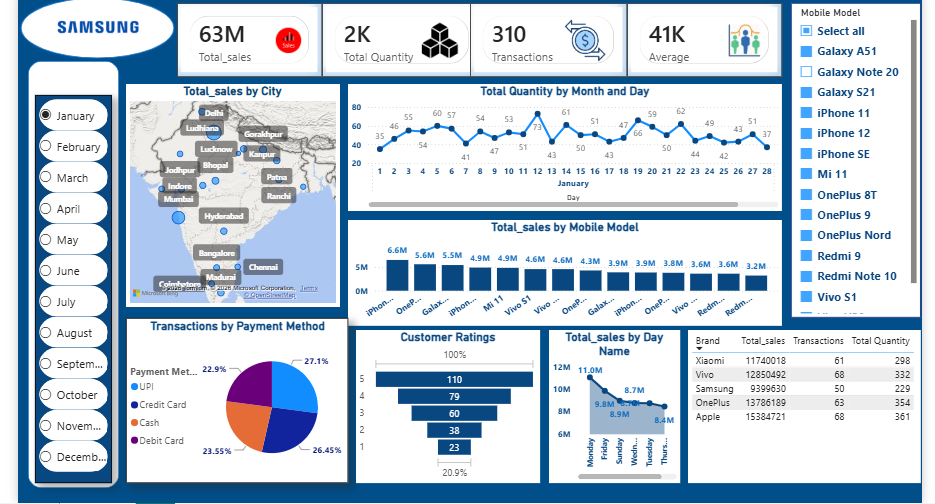

What the dashboard file says about the page in this screenshot:
{"tool":"powerbi","page":{"name":"Page 1","canvas":[1280,720],"ordinal":0},"visuals":[{"type":"shape","box":[0,0,225.4,93.5],"z":0},{"type":"image","box":[52.4,11.3,121.9,69.4],"z":1000},{"type":"shape","box":[14.2,93.5,129,605.2],"z":2000},{"type":"listSlicer","fields":{"Values":["Sales_Data.Date.Variation.Date Hierarchy.Month"]},"box":[24.1,141.7,109.1,549.9],"z":3000},{"type":"cardVisual","fields":{"Data":["Sales_Data.Total_sales"]},"box":[225.4,11.3,205.5,104.9],"z":4000},{"type":"cardVisual","fields":{"Data":["Sales_Data.Total Quantity"]},"box":[430.9,11.3,226.8,104.9],"z":5000},{"type":"cardVisual","fields":{"Data":["Sales_Data.Transactions"]},"box":[640.6,11.3,222.5,104.9],"z":6000},{"type":"cardVisual","fields":{"Data":["Sales_Data.Average"]},"box":[863.1,11.3,219.7,104.9],"z":7000},{"type":"map","fields":{"Category":["Sales_Data.City"],"Size":["Sales_Data.Total_sales"]},"box":[153.1,126.1,301.9,316.1],"z":8000},{"type":"lineChart","fields":{"Y":["Sales_Data.Total Quantity"],"Category":["Sales_Data.Date.Variation.Date Hierarchy.Month","Sales_Data.Date.Variation.Date Hierarchy.Day"]},"box":[467.7,126.1,615.1,180],"z":9000},{"type":"clusteredColumnChart","fields":{"Category":["Sales_Data.Mobile Model"],"Y":["Sales_Data.Total_sales"]},"box":[467.7,318.9,615.1,150.2],"z":10000},{"type":"pieChart","fields":{"Y":["Sales_Data.Transactions"],"Category":["Sales_Data.Payment Method"]},"box":[153.1,457.8,314.6,233.9],"z":11000},{"type":"funnel","title":"Customer Ratings ","fields":{"Category":["Sales_Data.Customer Ratings"],"Y":["CountNonNull(Sales_Data.Customer Ratings)"]},"box":[479.1,474.8,260.8,216.9],"z":12000},{"type":"areaChart","fields":{"Category":["Sales_Data.Day Name"],"Y":["Sales_Data.Total_sales"]},"box":[752.6,474.8,185.7,216.9],"z":13000},{"type":"tableEx","fields":{"Values":["Sales_Data.Brand","Sales_Data.Total_sales","Sales_Data.Transactions","Sales_Data.Total Quantity"]},"box":[949.6,474.8,330.2,216.9],"z":14000},{"type":"slicer","fields":{"Values":["Sales_Data.Mobile Model"]},"box":[1095.6,11.3,184.3,446.5],"z":15000}]}

Visuals, with their boxes in screenshot pixels (x1, y1, x2, y2):
shape: locate(7, 0, 169, 55)
image: locate(45, 0, 132, 46)
shape: locate(17, 55, 110, 488)
listSlicer - Sales_Data.Date.Variation.Date Hierarchy.Month: locate(25, 89, 103, 483)
cardVisual - Sales_Data.Total_sales: locate(169, 0, 316, 71)
cardVisual - Sales_Data.Total Quantity: locate(316, 0, 478, 71)
cardVisual - Sales_Data.Transactions: locate(466, 0, 625, 71)
cardVisual - Sales_Data.Average: locate(625, 0, 782, 71)
map - Sales_Data.City x Sales_Data.Total_sales: locate(117, 78, 333, 304)
lineChart - Sales_Data.Total Quantity x Sales_Data.Date.Variation.Date Hierarchy.Month: locate(342, 78, 782, 207)
clusteredColumnChart - Sales_Data.Mobile Model x Sales_Data.Total_sales: locate(342, 216, 782, 324)
pieChart - Sales_Data.Transactions x Sales_Data.Payment Method: locate(117, 315, 342, 483)
"Customer Ratings " funnel: locate(350, 328, 537, 483)
areaChart - Sales_Data.Day Name x Sales_Data.Total_sales: locate(546, 328, 679, 483)
tableEx - Sales_Data.Brand x Sales_Data.Total_sales: locate(687, 328, 923, 483)
slicer - Sales_Data.Mobile Model: locate(791, 0, 923, 315)
